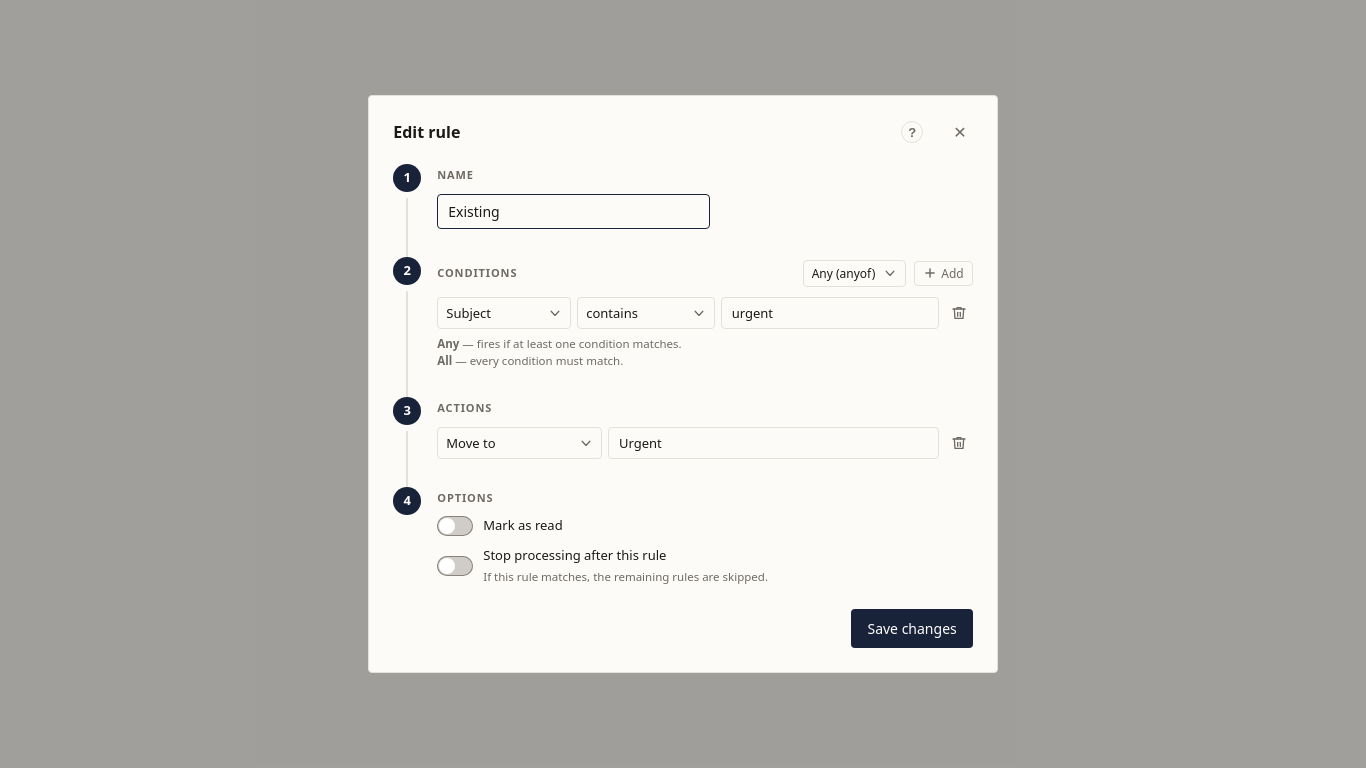
Wizard step gating › re-locks later steps and disables Save when a value is cleared (edit mode)
Expected: the button "Save changes" is enabled, top-left (852, 609), bottom-right (973, 648)
Clear the field with placeholder "Value" below "Conditions" at [830, 313], box top-left (721, 297), bottom-right (939, 329)
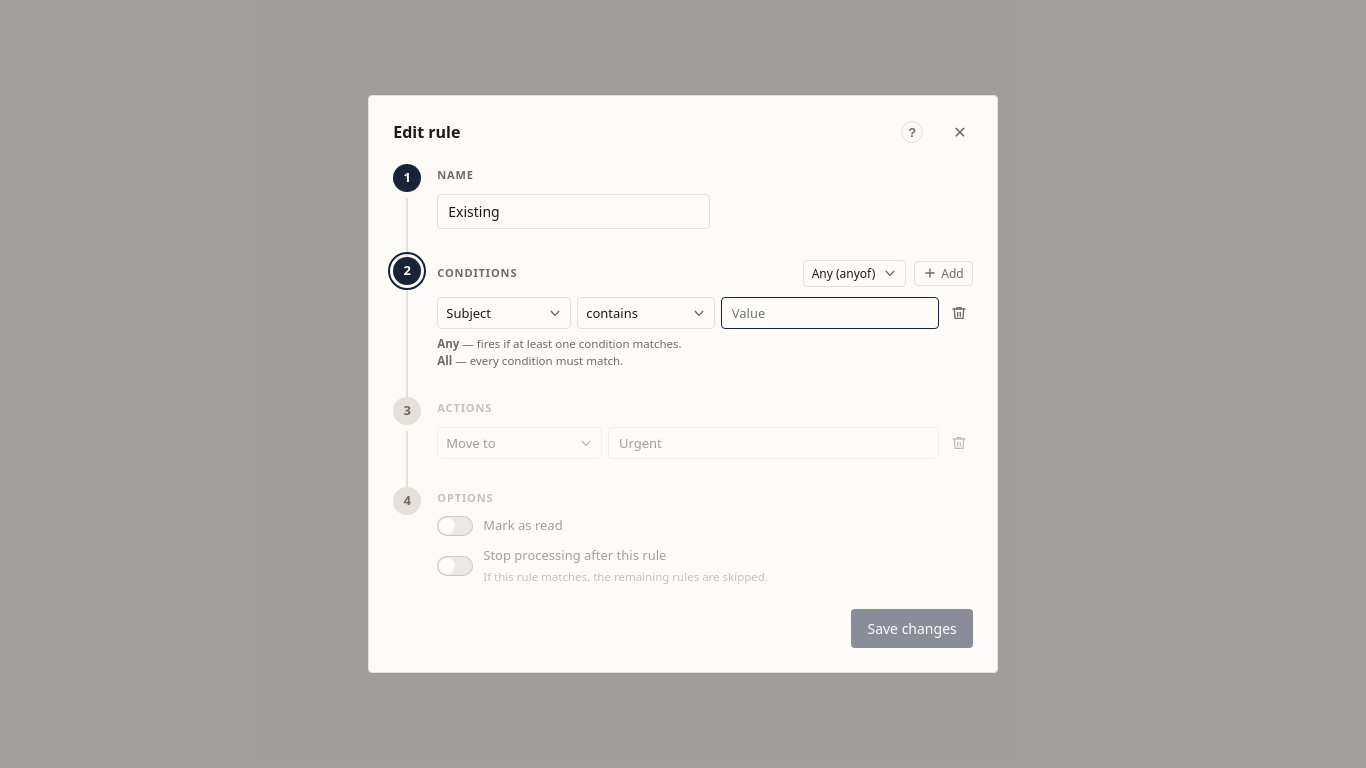
Now the button "Save changes" is disabled, box top-left (852, 609), bottom-right (973, 648)
